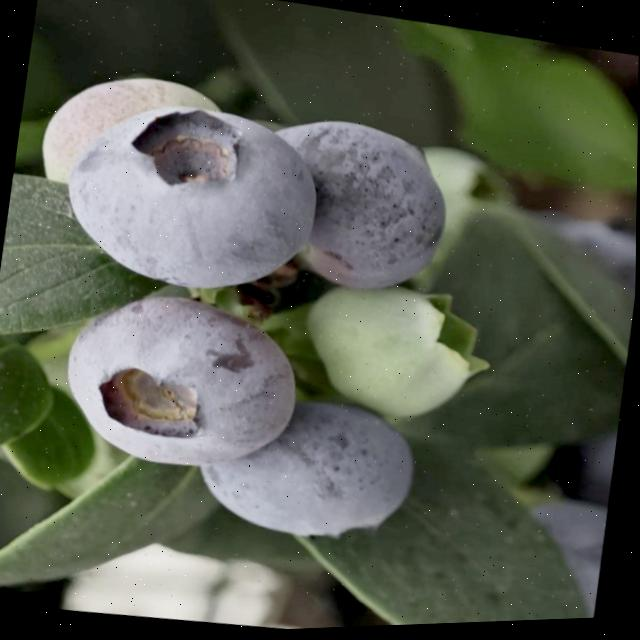RipeBlueBerry: (56, 81, 329, 304), (51, 271, 305, 483)
